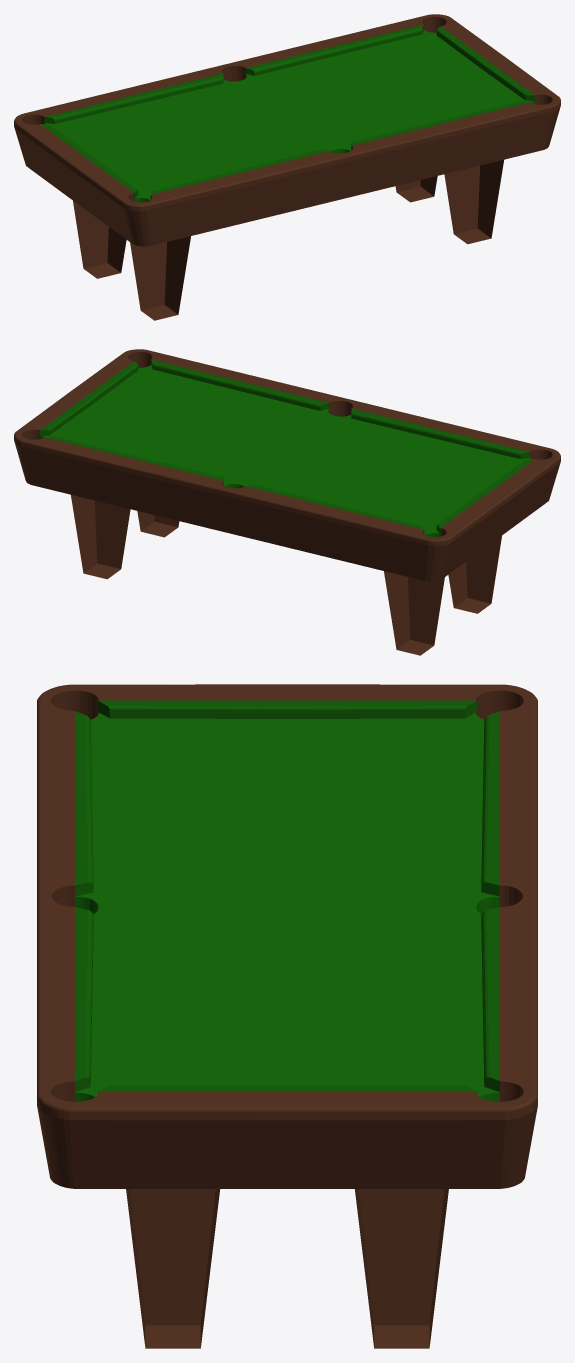
File: Masa Biliard.fbx
3 views of the same model, one above another, from view 1: azimuth 30°, elevation 25°; view 2: azimuth 150°, elevation 25°; view 3: azimuth 270°, elevation 25° (orthographic). The views are drawn at different scales.
Visible parts, largest first — view 1: Circle.001, Circle.002, Cube, Plane, Plane.001; view 2: Circle.001, Circle.002, Cube, Plane, Plane.001; view 3: Circle.001, Circle.002, Cube, Plane, Plane.001.
Boxes of the visible parts, x1=… form: Circle.001: x1=44, y1=30, x2=534, y2=202; Circle.002: x1=14, y1=14, x2=560, y2=246; Cube: x1=73, y1=160, x2=503, y2=320; Plane: x1=45, y1=24, x2=528, y2=194; Plane.001: x1=40, y1=26, x2=535, y2=198; Circle.001: x1=40, y1=365, x2=530, y2=537; Circle.002: x1=14, y1=349, x2=560, y2=581; Cube: x1=71, y1=495, x2=501, y2=655; Plane: x1=46, y1=359, x2=529, y2=529; Plane.001: x1=39, y1=361, x2=534, y2=533; Circle.001: x1=75, y1=712, x2=499, y2=1101; Circle.002: x1=37, y1=684, x2=537, y2=1188; Cube: x1=126, y1=1189, x2=448, y2=1348; Plane: x1=75, y1=711, x2=499, y2=1091; Plane.001: x1=98, y1=700, x2=476, y2=1094.
Size of the model in its own units: 245 by 77.25 by 122.
